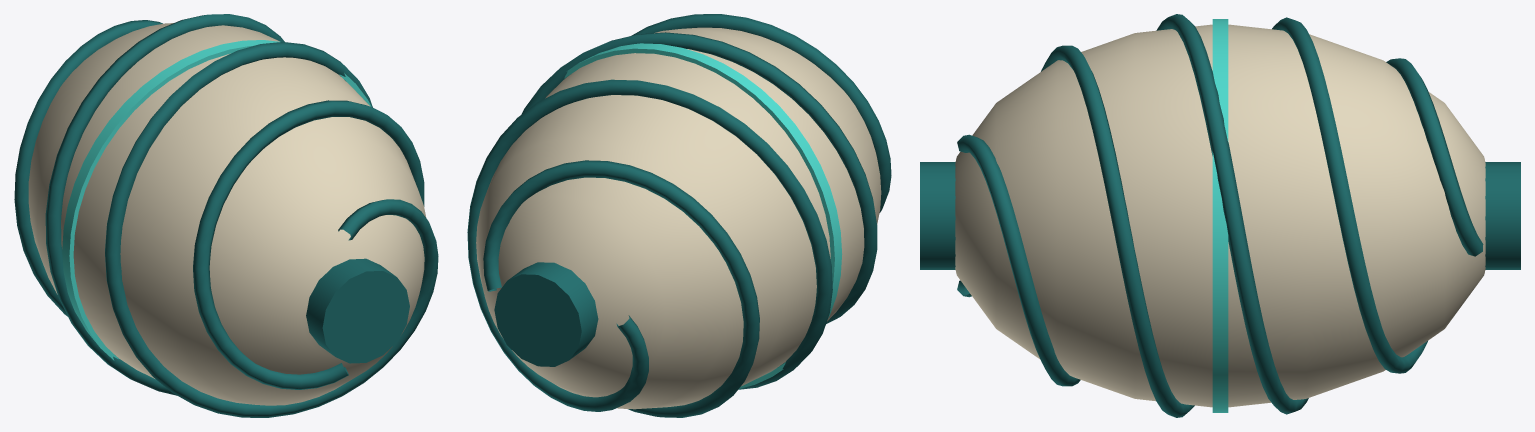
The model's file is k12_field.obj.
3 renders of one model, left to right at view 1: azimuth 30°, elevation 25°; view 2: azimuth 150°, elevation 25°; view 3: azimuth 270°, elevation 25°, orthographic. The views are drawn at different scales.
Visible parts, largest first — view 1: k12_field; view 2: k12_field; view 3: k12_field.
Part boxes in pixels (x1,y1,x2,y2): k12_field: (14, 14, 438, 417); k12_field: (467, 14, 891, 417); k12_field: (920, 14, 1520, 417).
Size of the model in its own units: 1.67 by 1.68 by 2.48.
